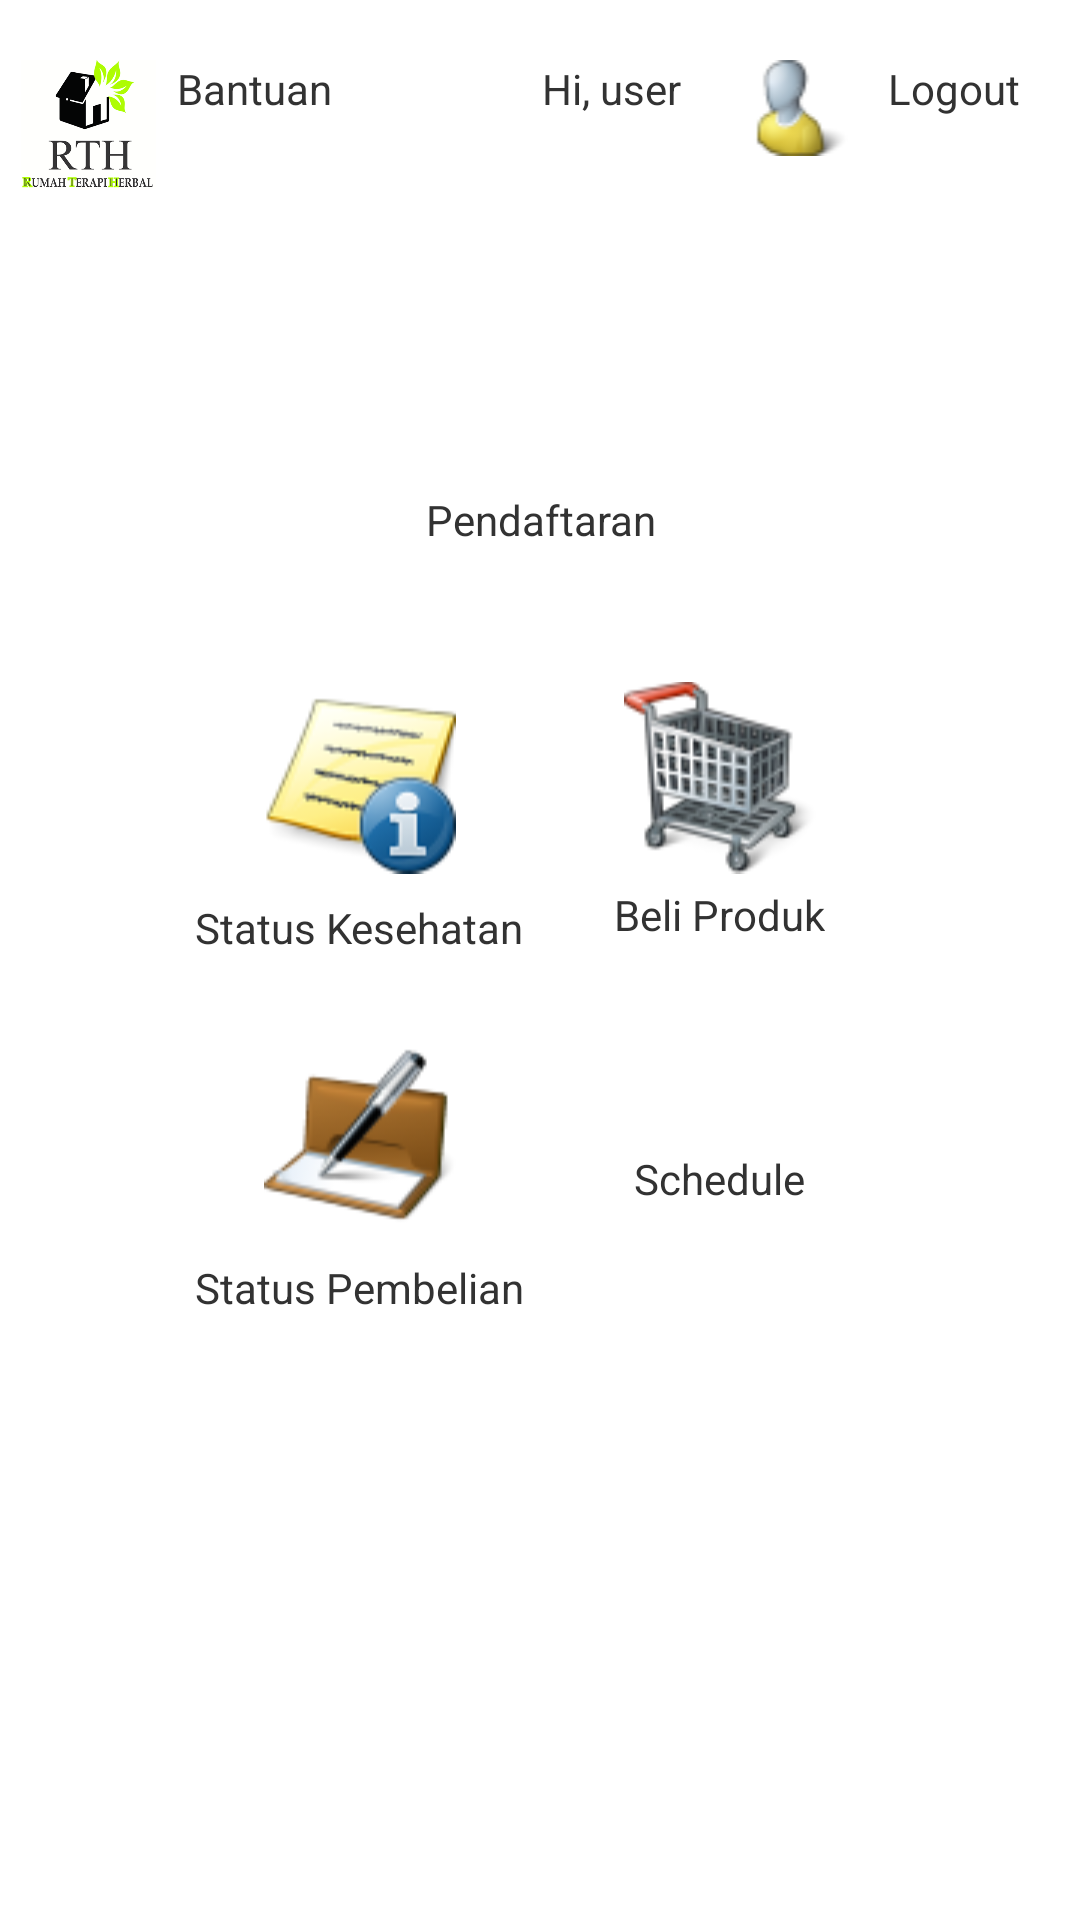

Icon click points for this 1080px×1920px phone screenshot, format [x,y]:
cart: [714,778]
checkbook: [356,1135]
notes: [361,786]
